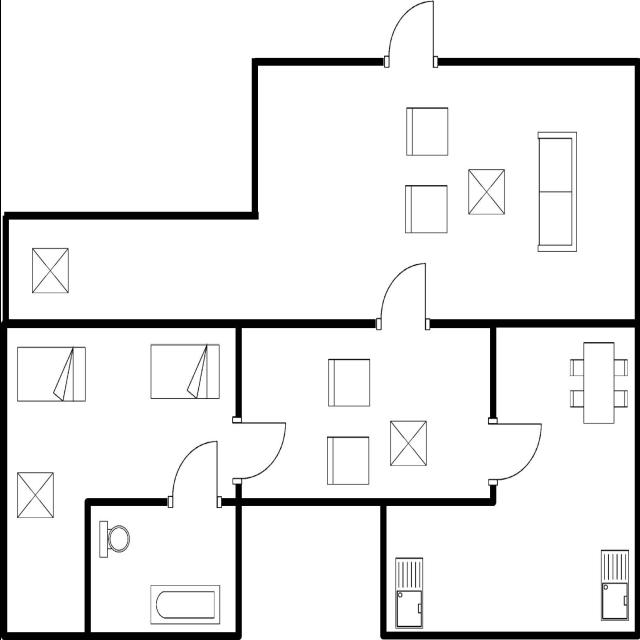bed: (146, 336, 224, 406), (12, 341, 90, 407)
coffee_table: (11, 464, 57, 524), (462, 163, 508, 221), (26, 244, 72, 298), (386, 414, 429, 471)
dining_table: (562, 334, 632, 431)
large_sink: (94, 512, 132, 562)
large_sofa: (530, 124, 582, 258)
sink: (594, 542, 632, 626), (392, 551, 428, 631)
small_sofa: (399, 178, 452, 240), (322, 430, 374, 490), (400, 102, 450, 164), (324, 354, 372, 412)
tub: (143, 576, 224, 630)
